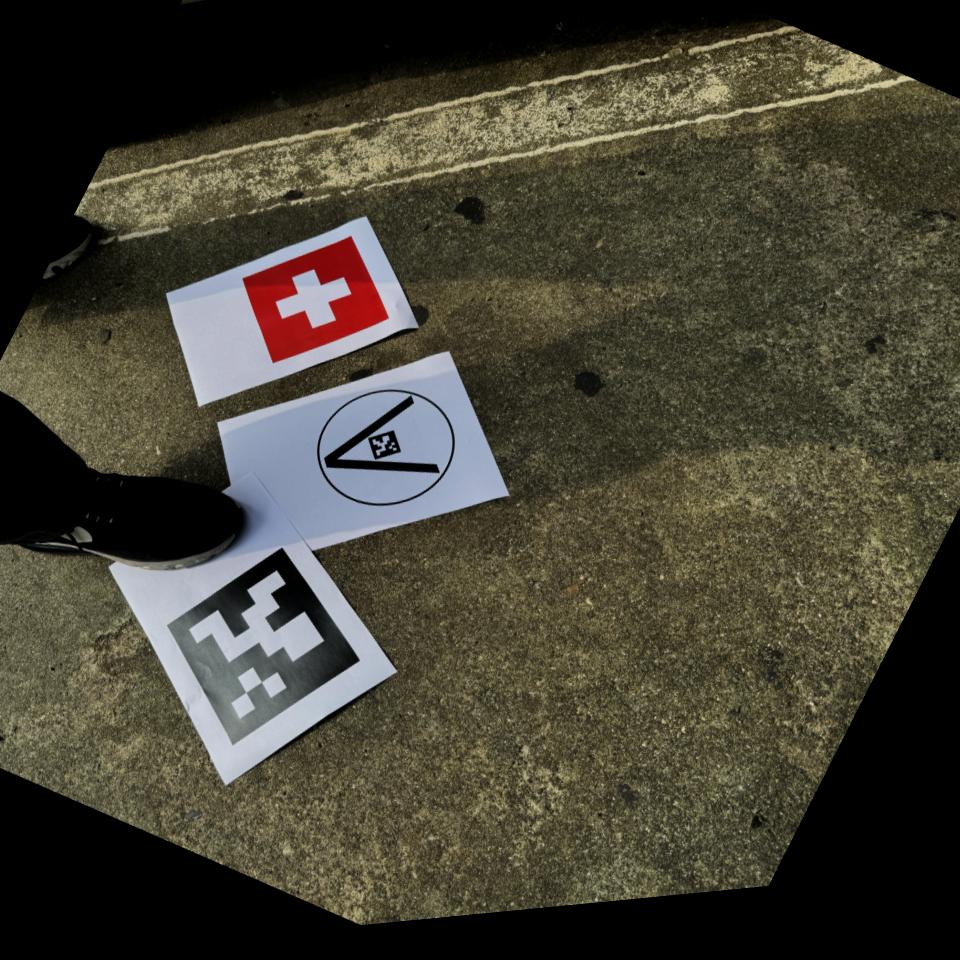ArUro mark: (156, 547, 366, 757)
rescue point: (233, 232, 396, 374)
vertiport: (286, 343, 486, 551)
